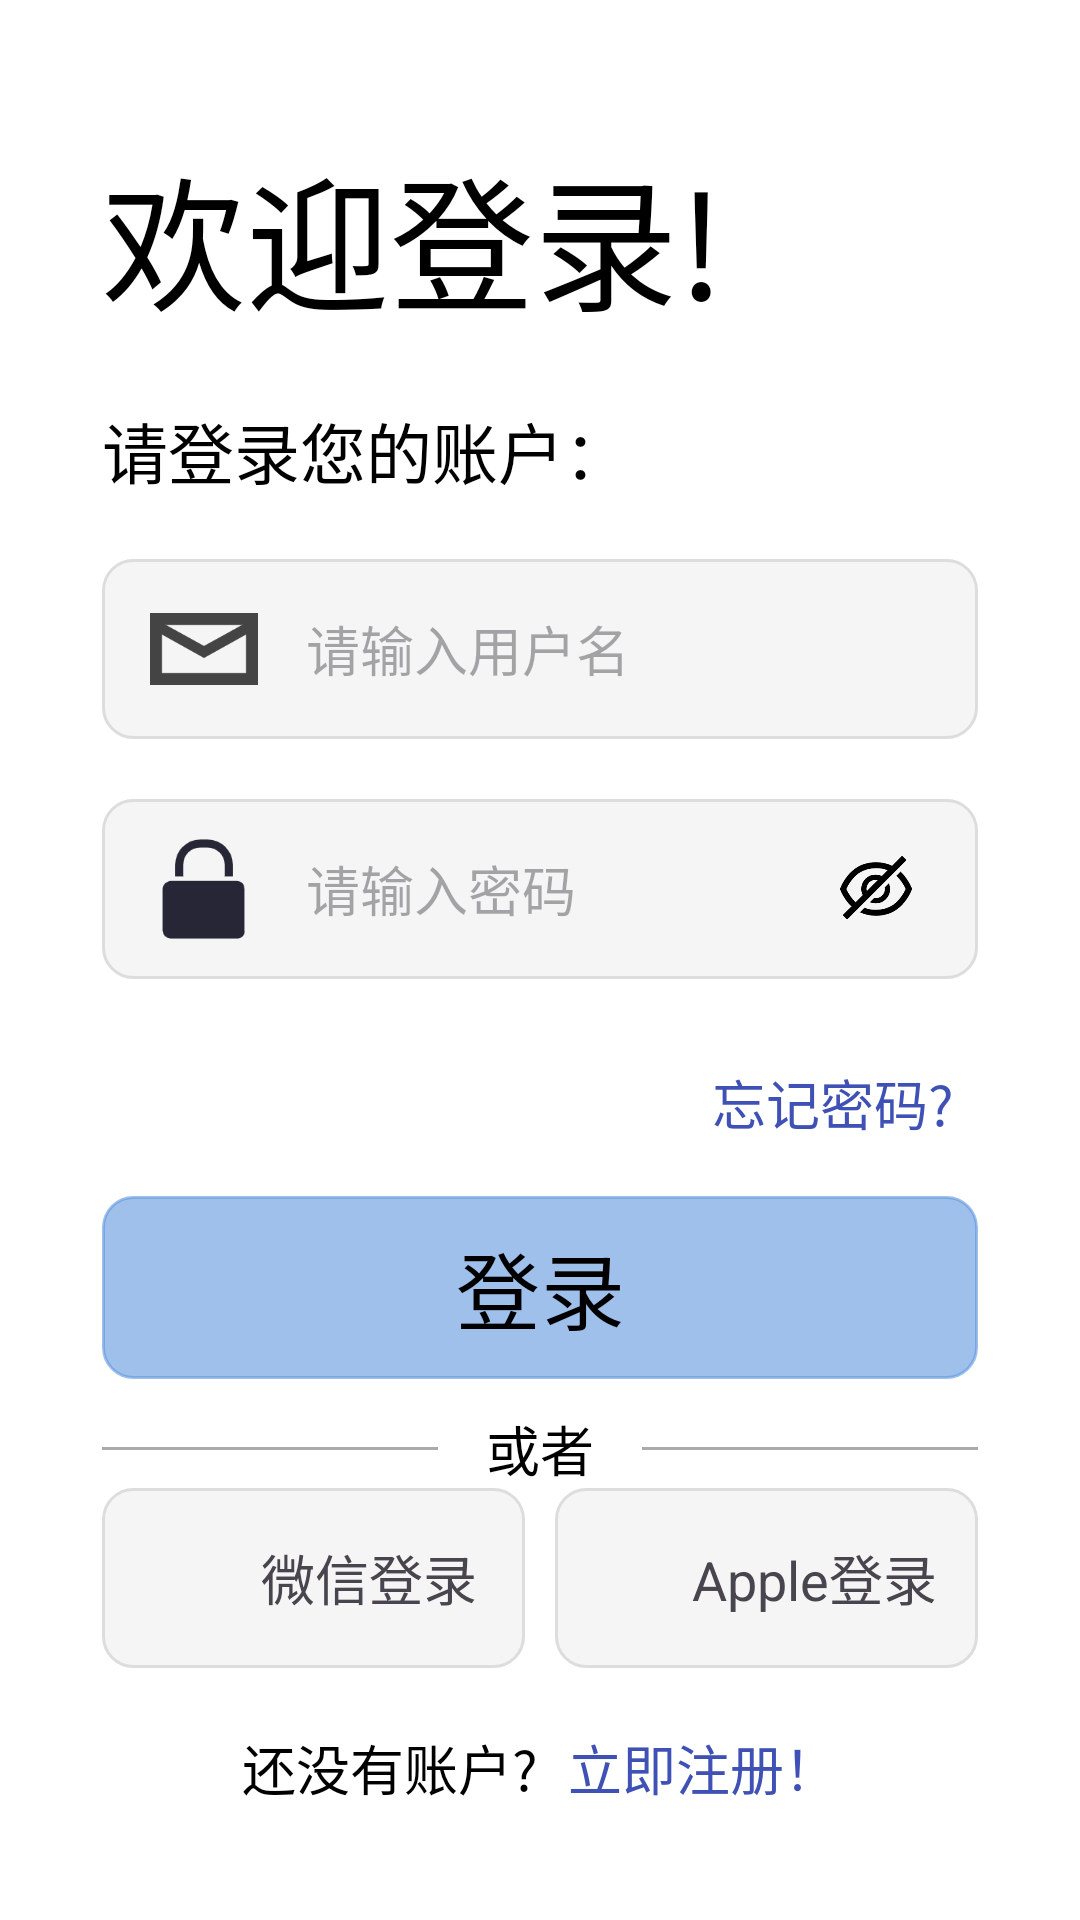

Where to tap for icons on this 1080px x 1920px app screen, as [x,y]:
email: [204,649]
lock: [203,889]
切换密码可见性: [876,887]
